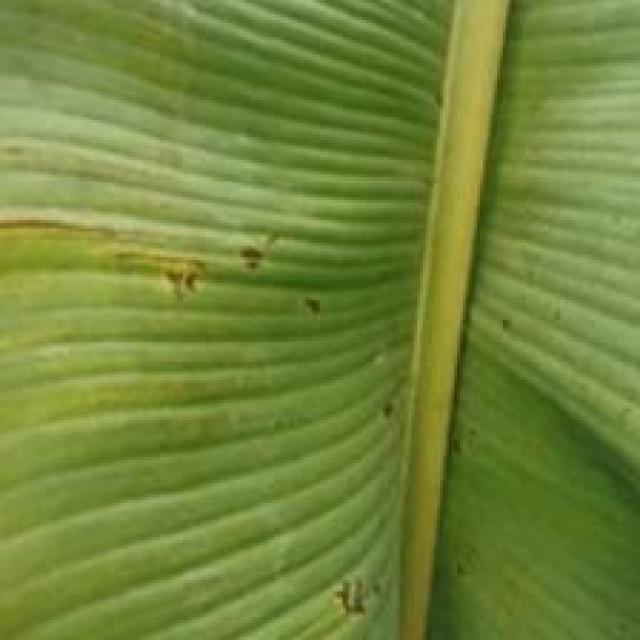Downey_mildrew: (0, 172, 332, 359), (312, 540, 414, 640), (374, 387, 406, 427)
